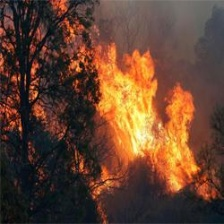fire: (78, 50, 218, 201)
